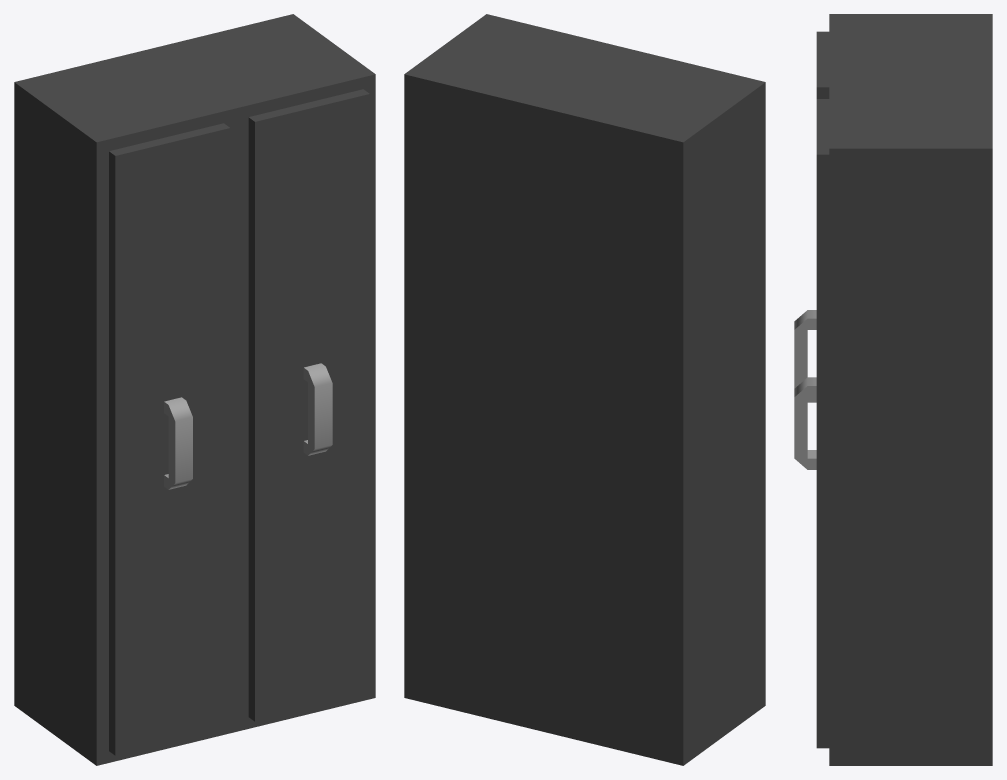
The model's file is SM_MaintenanceCloset.fbx.
3 views of the same model, side by side, from view 1: azimuth 30°, elevation 25°; view 2: azimuth 150°, elevation 25°; view 3: azimuth 270°, elevation 25° (orthographic).
Parts seen in each view (by area): view 1: SM_SideTable; view 2: SM_SideTable; view 3: SM_SideTable.
Boxes of the visible parts, left/top/right/bottom form: SM_SideTable: left=14, top=14, right=375, bottom=765; SM_SideTable: left=404, top=14, right=765, bottom=765; SM_SideTable: left=794, top=14, right=992, bottom=765.
Size of the model in its own units: 0.9369 by 2 by 0.5817.
